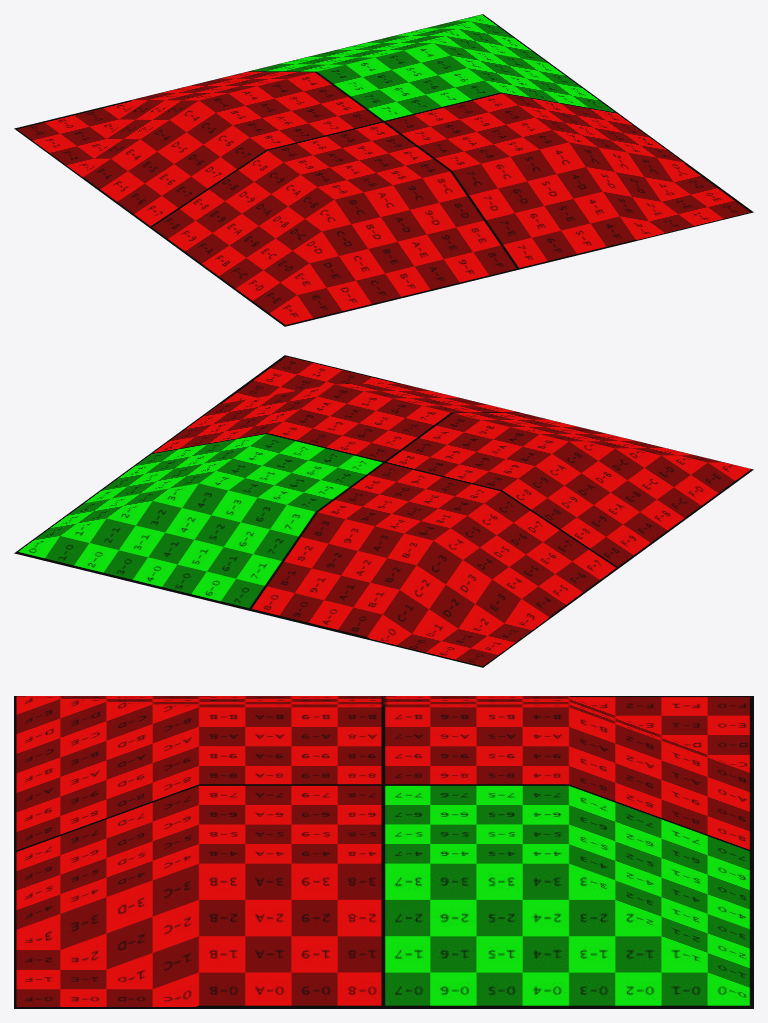
The model's file is MorphPrimitivesTestLOD.glb.
3 views of the same model, one above another, from view 1: azimuth 30°, elevation 25°; view 2: azimuth 150°, elevation 25°; view 3: azimuth 270°, elevation 25° (orthographic). The views are drawn at different scales.
Visible parts, largest first — view 1: ルートパート; view 2: ルートパート; view 3: ルートパート.
Part boxes in pixels (x1,y1,x2,y2): ルートパート: (14,14,753,326); ルートパート: (14,355,753,667); ルートパート: (14,696,753,1008).
Bounding box in the file's own units: 1 × 0.1 × 1.
2 materials, 2 textured.
